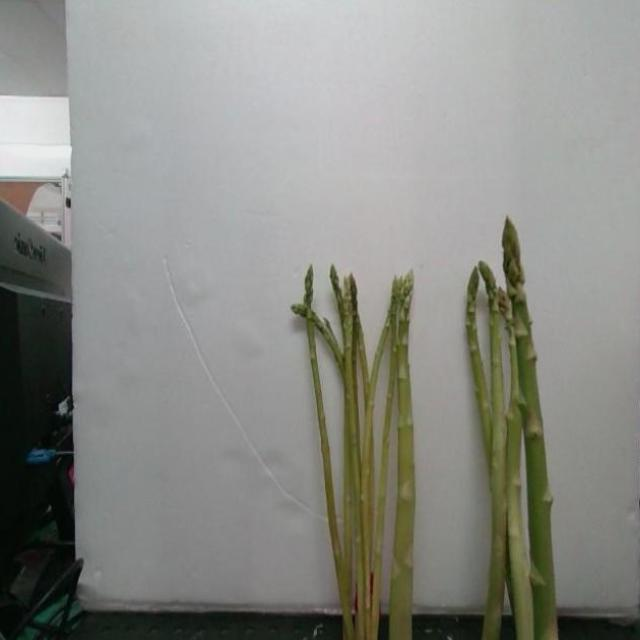aspargus: (502, 215, 562, 635)
